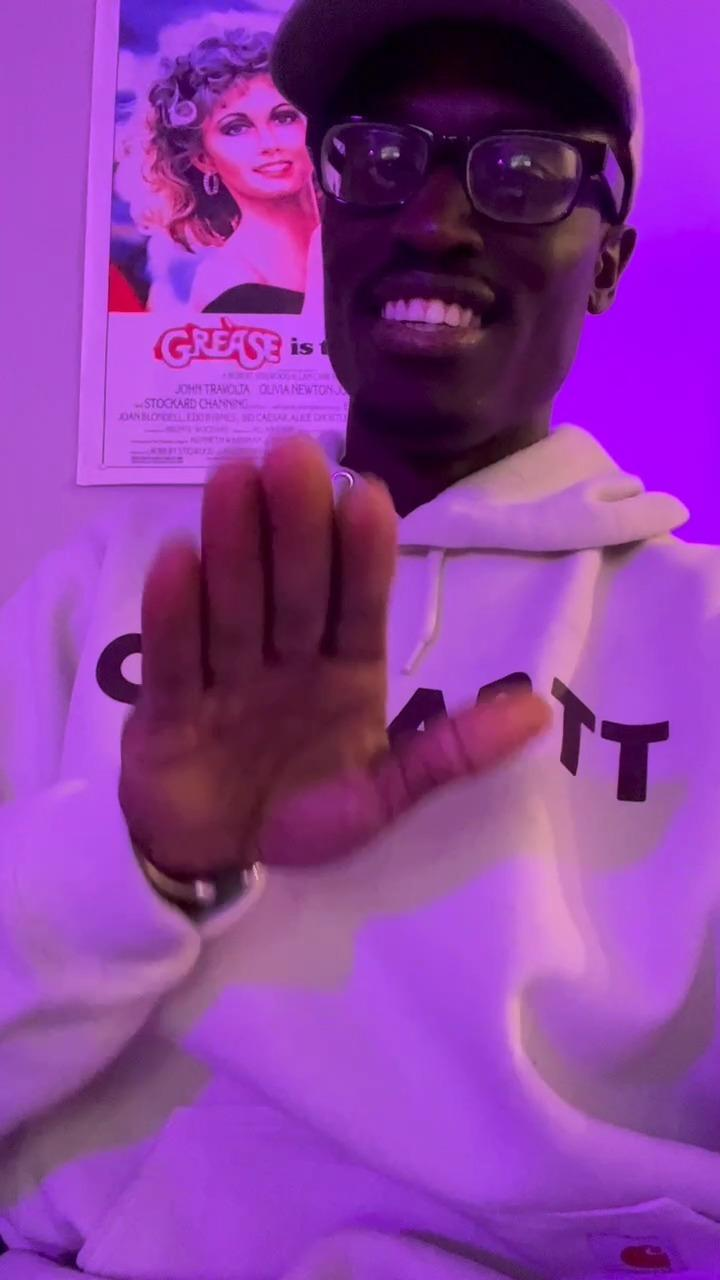Paper: (112, 432, 557, 881)
